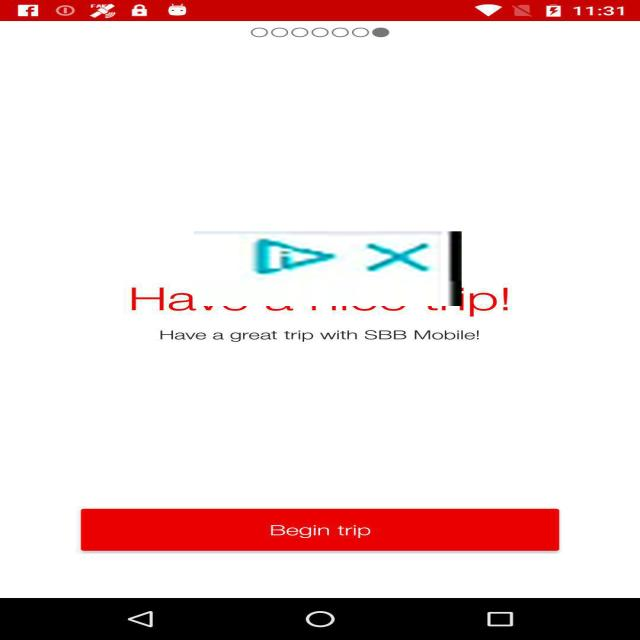sneaking: (194, 231, 462, 306)
